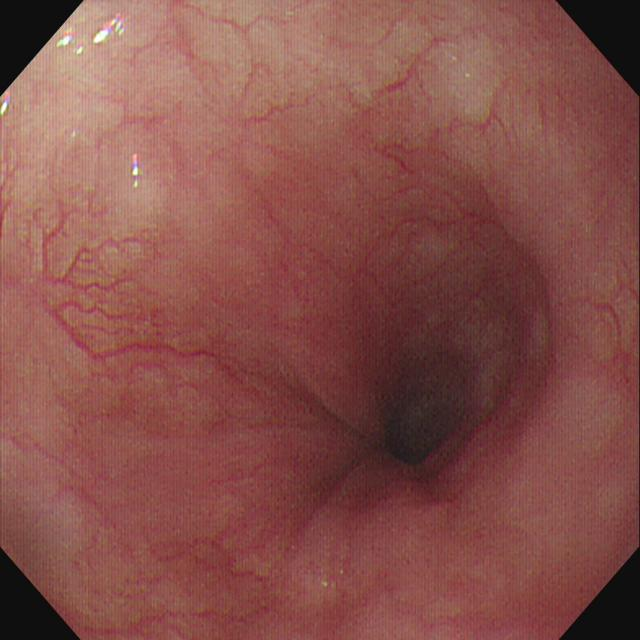E: (381, 411, 456, 469)
U: (94, 13, 126, 46), (57, 30, 74, 48), (132, 153, 139, 189)
